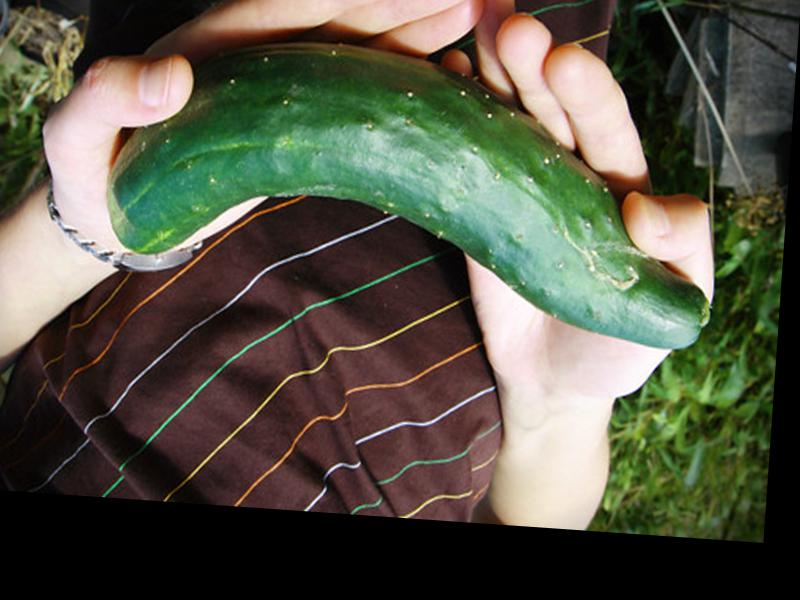Cucumber: (99, 28, 723, 352)
